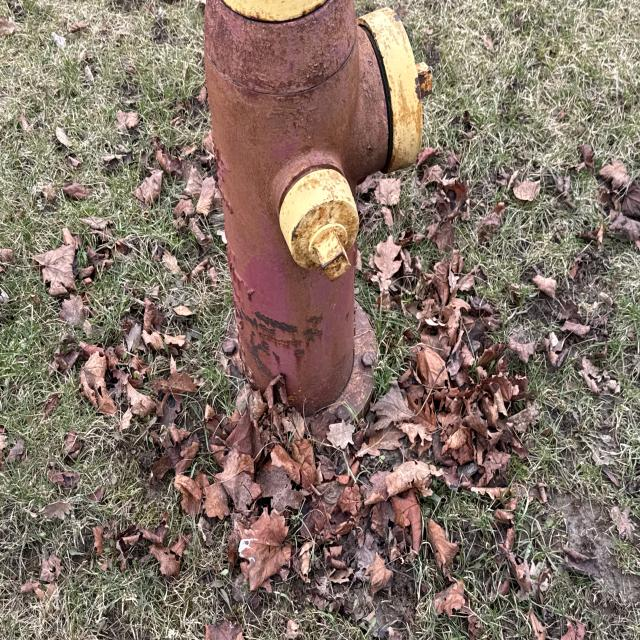Fire hydrant: (200, 1, 434, 458)
